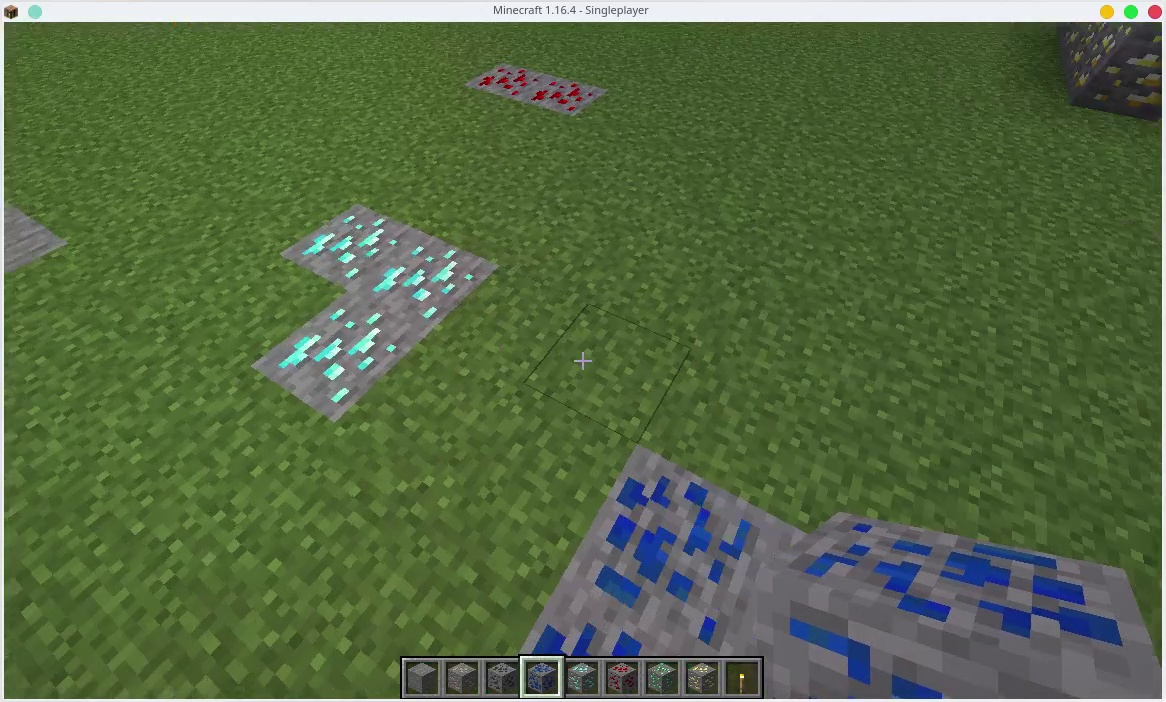gold: (1065, 24, 1158, 118), (688, 665, 717, 692)
